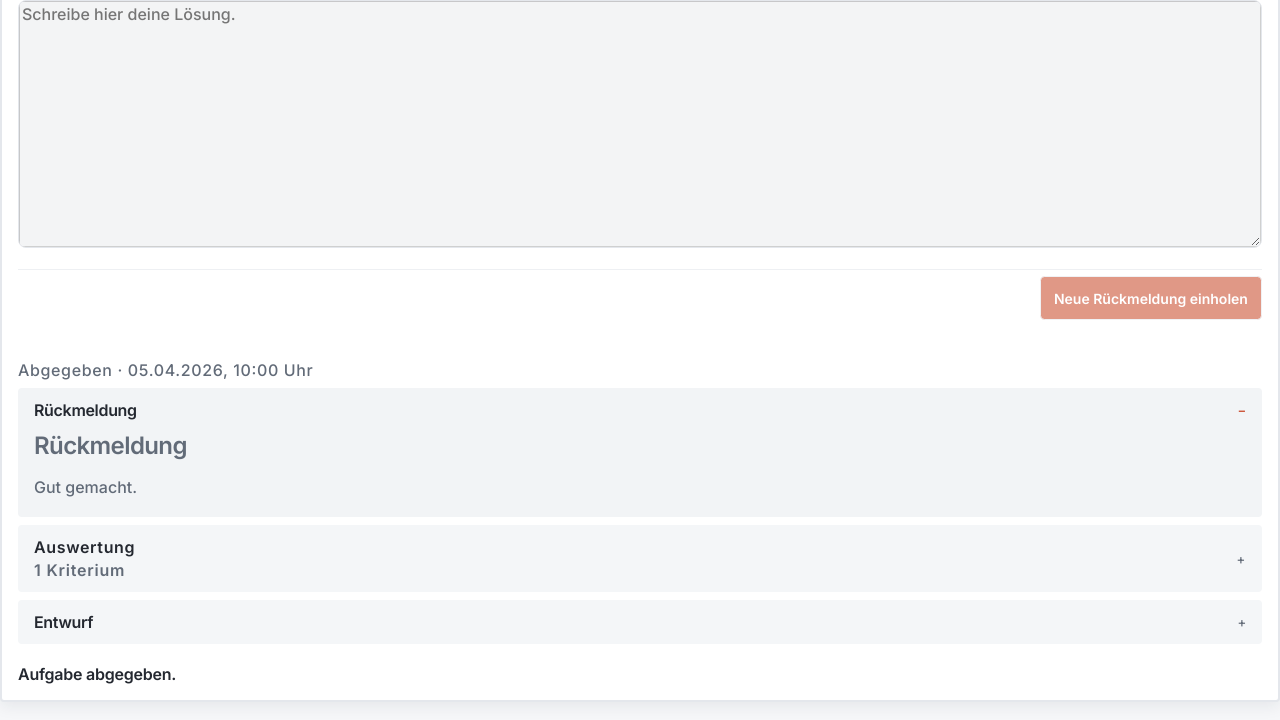
LearningTaskCard › opens feedback first and keeps evaluation beside the reviewed draft
(page scrolled)
Expected: the text "Abgegeben · 05.04.2026, 10:00 Uhr" is shown, [18,360,313,380]
Expected: the text "Gut gemacht." is shown, [34,478,137,498]
Click the text "Auswertung": coordinates (85, 547) [34,537,135,557]
(page scrolled)
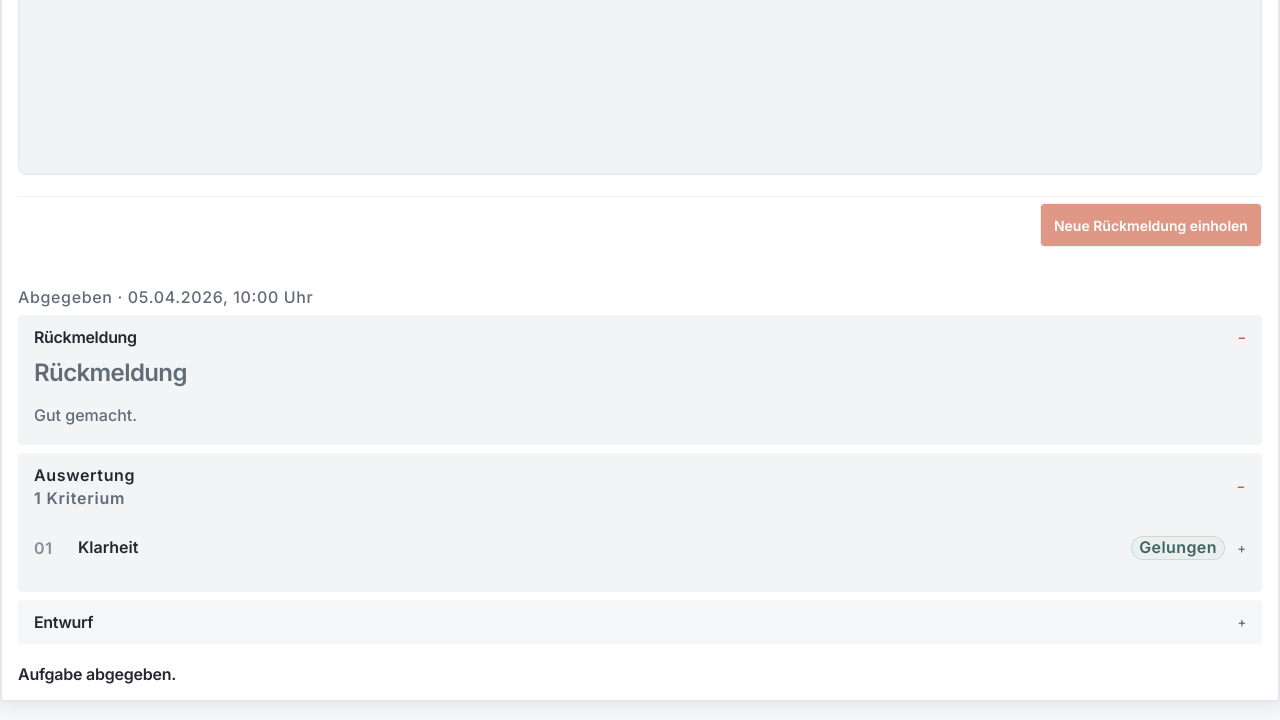
Expected: the text "Klarheit" is shown, [78,537,138,557]
Expected: the text "Klarheit" shows "Gelungen", [1139,537,1217,557]
